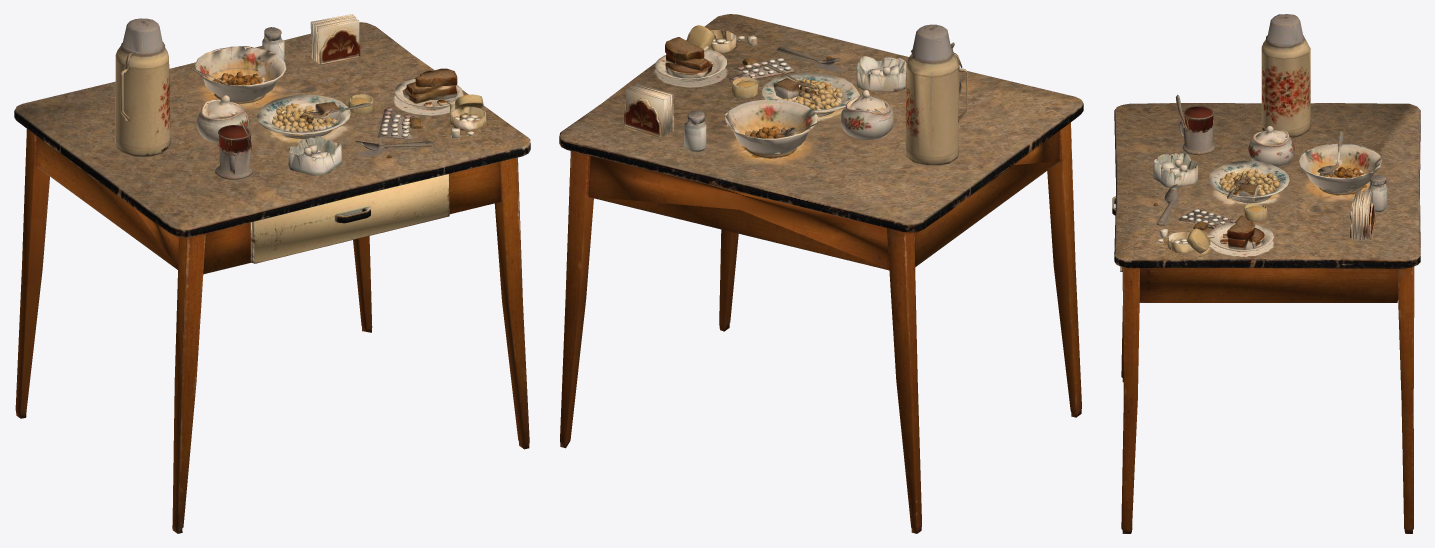
File: table_sq.glb
3 views of the same model, side by side, from view 1: azimuth 30°, elevation 25°; view 2: azimuth 150°, elevation 25°; view 3: azimuth 270°, elevation 25° (orthographic). The views are drawn at different scales.
Visible parts, largest first — view 1: Mesh_0; view 2: Mesh_0; view 3: Mesh_0.
Part boxes in pixels (box(x1,y1,x2,y2)): Mesh_0: box(14, 14, 530, 533); Mesh_0: box(559, 14, 1083, 533); Mesh_0: box(1112, 14, 1420, 533).
Bounding box in the file's own units: 0.9456 × 1.08 × 0.7822.
Materials: 1 (1 with a texture image).
